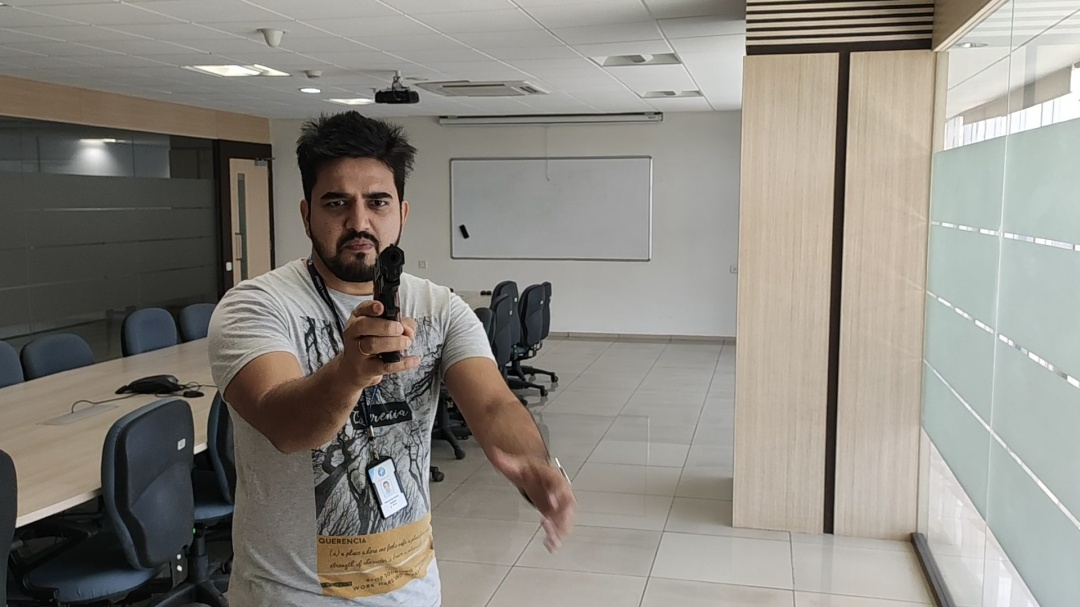gun: (373, 247, 412, 319)
